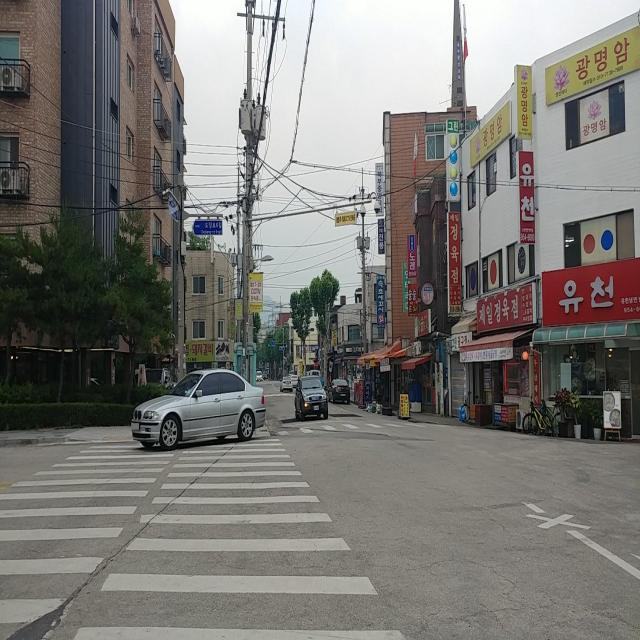횡단보도: (0, 438, 407, 640), (282, 419, 428, 441)
